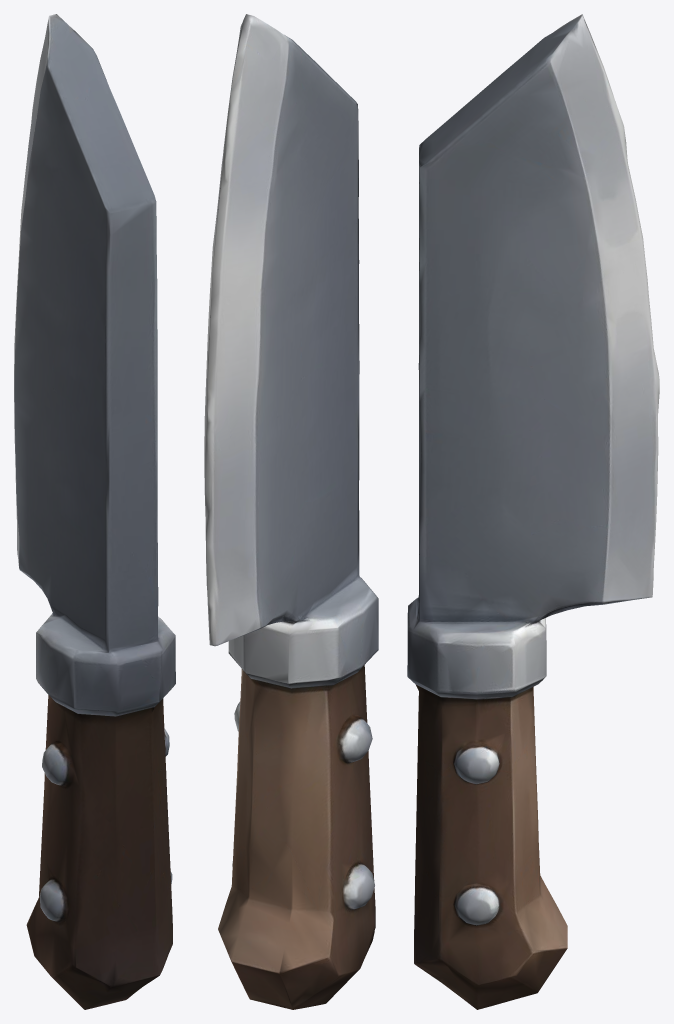
File: w_cleaver--dagger.glb
3 views of the same model, side by side, from view 1: azimuth 30°, elevation 25°; view 2: azimuth 150°, elevation 25°; view 3: azimuth 270°, elevation 25° (orthographic). The views are drawn at different scales.
Visible parts, largest first — view 1: Weapon; view 2: Weapon; view 3: Weapon.
Boxes of the visible parts, left/top/right/bottom form: Weapon: left=14, top=14, right=175, bottom=1009; Weapon: left=204, top=14, right=378, bottom=1009; Weapon: left=407, top=14, right=659, bottom=1009.
Bounding box in the file's own units: 0.134 × 0.9816 × 0.2285.
Materials: 1 (1 with a texture image).
